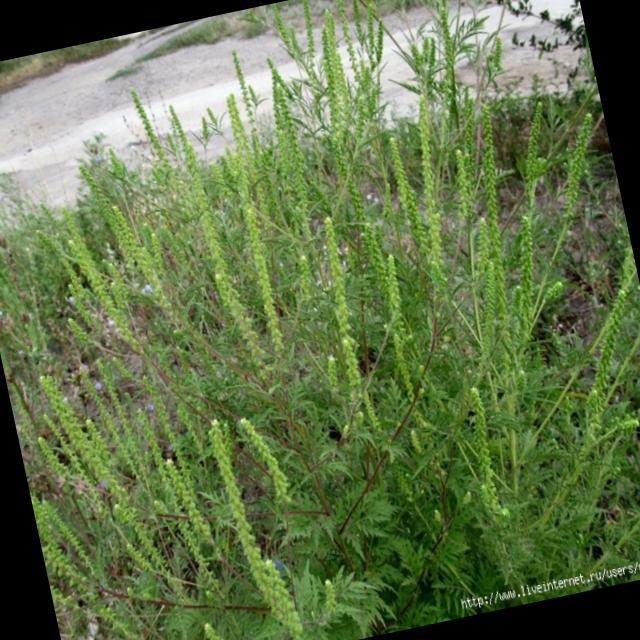ambrosia: (15, 342, 297, 636), (416, 60, 640, 400), (155, 99, 381, 363)
